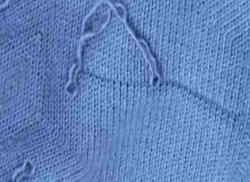snag: (118, 67, 172, 92)
